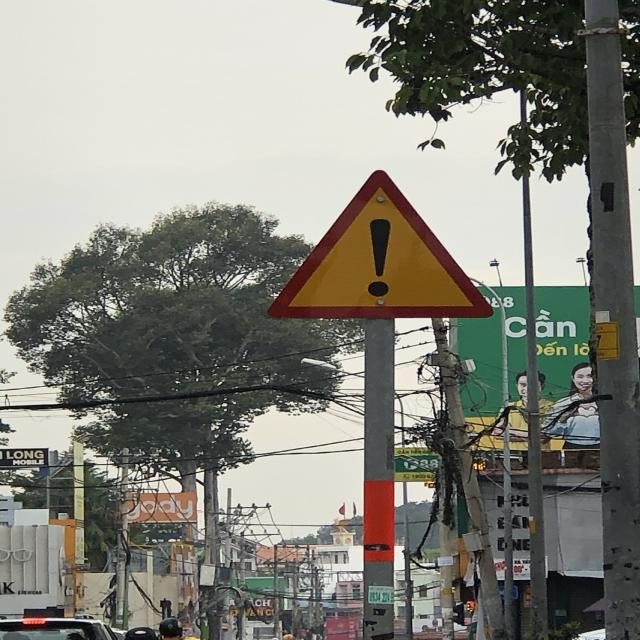Bien bao nguy hiem khac: (254, 164, 503, 327)
